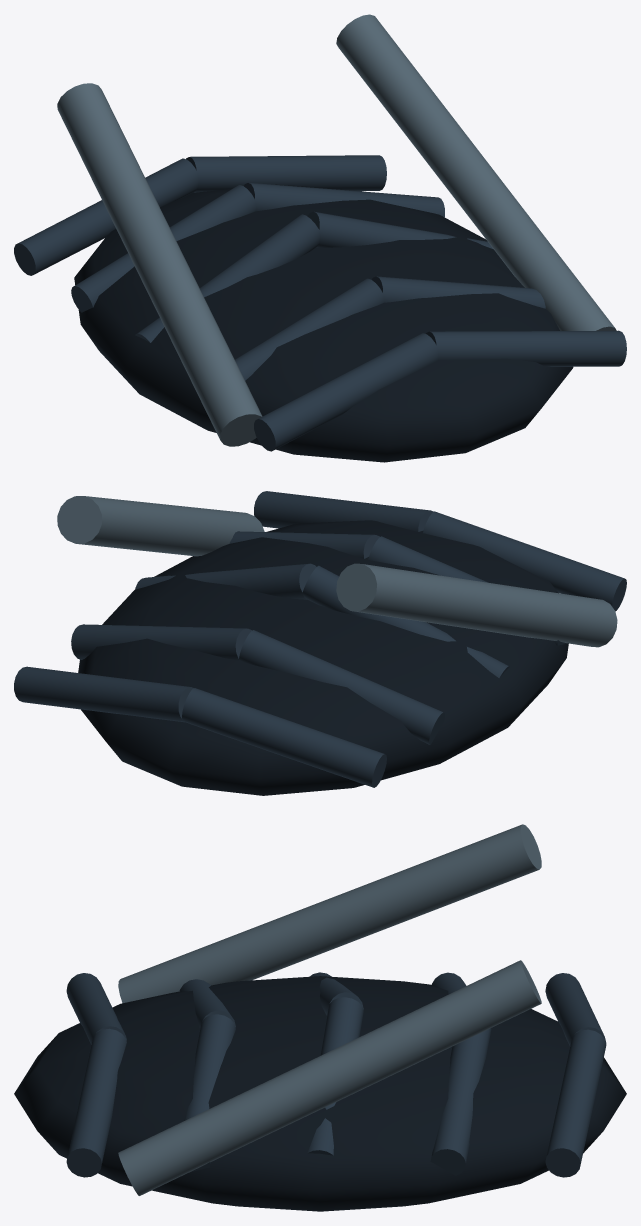
File: CMU3DHiveXenoNest.glb
3 renders of one model, top to bottom at view 1: azimuth 30°, elevation 25°; view 2: azimuth 150°, elevation 25°; view 3: azimuth 270°, elevation 25°, orthographic.
Parts seen in each view (by area): view 1: sealed nest bed, restraint tendril (×2), nest rib left (×5), nest rib right (×5); view 2: sealed nest bed, nest rib left (×5), restraint tendril (×2), nest rib right (×5); view 3: sealed nest bed, restraint tendril (×2), nest rib right (×5), nest rib left (×4).
Part boxes in pixels (bbox=[...]): sealed nest bed: bbox=[74, 184, 573, 462]; restraint tendril (×2): bbox=[57, 14, 616, 446]; nest rib left (×5): bbox=[14, 158, 438, 451]; nest rib right (×5): bbox=[186, 155, 626, 366]; sealed nest bed: bbox=[78, 520, 568, 795]; nest rib left (×5): bbox=[182, 511, 626, 787]; restraint tendril (×2): bbox=[57, 496, 617, 647]; nest rib right (×5): bbox=[14, 491, 433, 722]; sealed nest bed: bbox=[14, 976, 626, 1211]; restraint tendril (×2): bbox=[118, 824, 541, 1195]; nest rib right (×5): bbox=[66, 997, 606, 1177]; nest rib left (×4): bbox=[66, 972, 606, 1046].
Size of the model in its own units: 0.72 by 0.4643 by 0.96.
